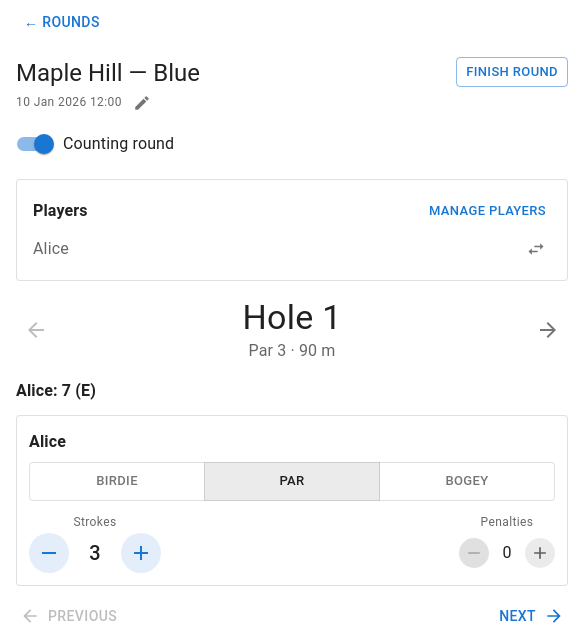
Test case: RoundPage › navigates to the next hole
Check: the heading "Hole 1" is shown, box [242, 297, 342, 339]
Click the button named "next hole" at [548, 330], box [528, 310, 568, 350]
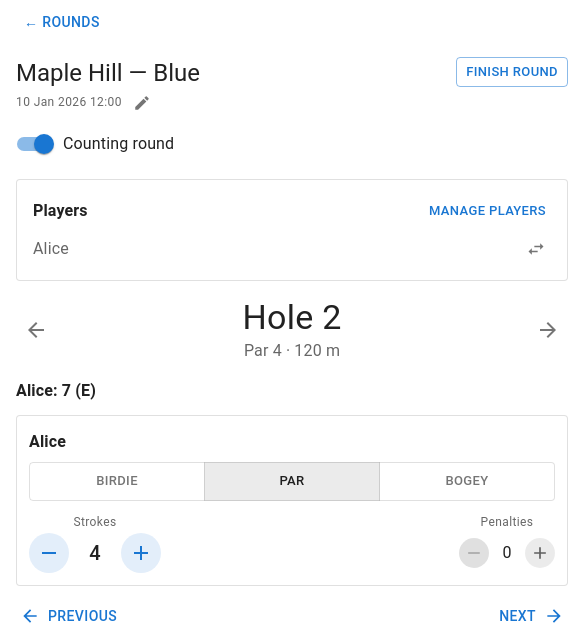
Check: the heading "Hole 2" is shown, box [242, 297, 342, 339]
Check: the text "Par 4 · 120 m" is shown, box [242, 339, 342, 363]
